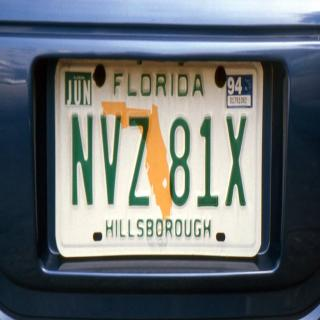license: (56, 59, 266, 259)
